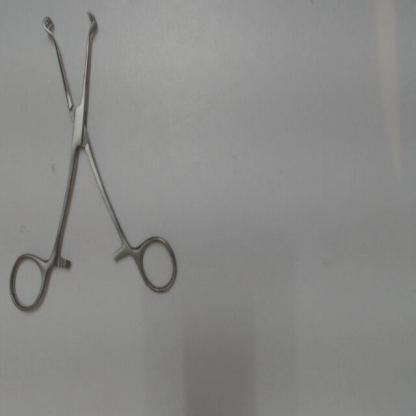Babcock Tissue Forceps: (5, 8, 182, 317)
